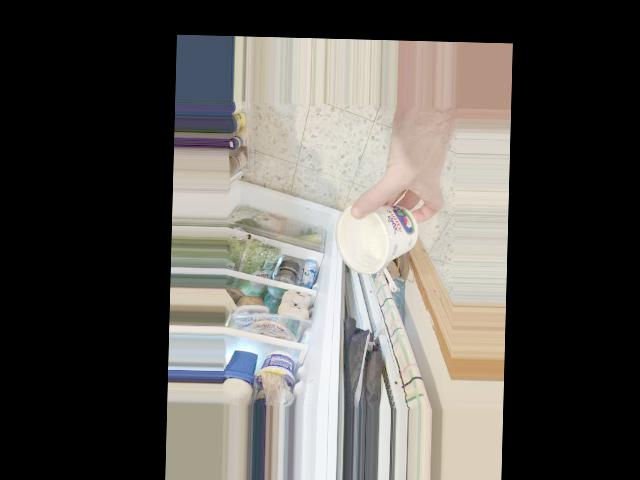cotage: (332, 191, 415, 272)
